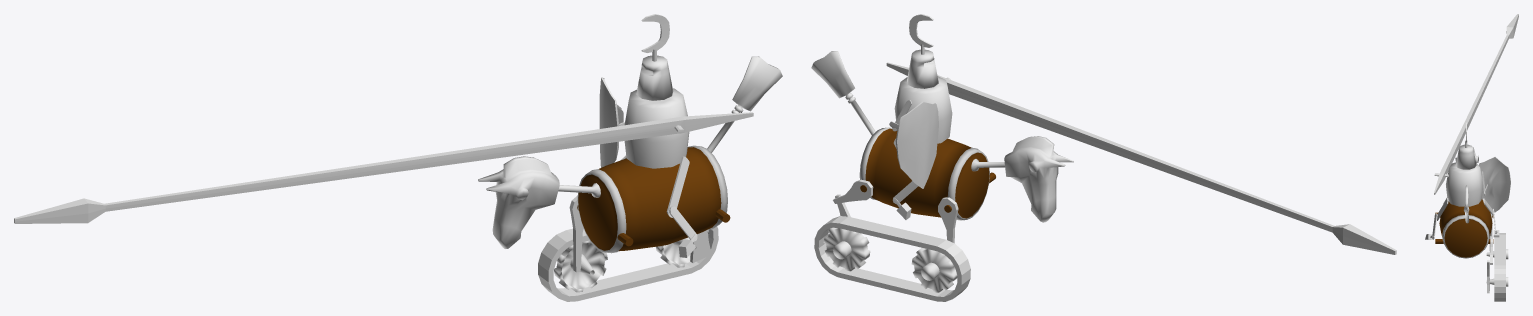
File: Cavaliere.fbx
The picture shows the model from 3 angles, left to right: view 1: azimuth 30°, elevation 25°; view 2: azimuth 150°, elevation 25°; view 3: azimuth 270°, elevation 25°; orthographic projection. The views are drawn at different scales.
Visible parts, largest first — view 1: Barile, Lancia, Testa, Cingolo, Body, elmo, Coda, Wheel.001, scudo, Gamba avanti, GambaPiede.001, Wheel (+1 smaller); view 2: Barile, Lancia, Cingolo, Testa, scudo, Body, Wheel, Wheel.001, elmo, Coda, Gamba avanti, GambadietroUP (+1 smaller); view 3: Barile, Body, scudo, Lancia, Cingolo, elmo, Coda, GambaPiede.001, GambaDietroDown, Gamba.001, GambaPiede, GambadietroUP.
Part boxes in pixels (left/top/right/bottom): Barile: left=577, top=145, right=730, bottom=253; Lancia: left=14, top=112, right=753, bottom=223; Testa: left=478, top=156, right=600, bottom=248; Cingolo: left=538, top=226, right=718, bottom=301; Body: left=624, top=88, right=689, bottom=168; elmo: left=636, top=14, right=673, bottom=100; Coda: left=707, top=56, right=782, bottom=152; Wheel.001: left=554, top=240, right=607, bottom=292; scudo: left=599, top=77, right=624, bottom=167; Gamba avanti: left=569, top=195, right=583, bottom=272; GambaPiede.001: left=669, top=206, right=697, bottom=257; Wheel: left=656, top=229, right=709, bottom=267; Barile: left=859, top=127, right=995, bottom=220; Lancia: left=886, top=62, right=1396, bottom=254; Cingolo: left=814, top=216, right=970, bottom=301; Testa: left=971, top=136, right=1073, bottom=222; scudo: left=889, top=101, right=938, bottom=188; Body: left=894, top=76, right=952, bottom=143; Wheel: left=823, top=227, right=870, bottom=271; Wheel.001: left=911, top=248, right=957, bottom=292; elmo: left=907, top=14, right=938, bottom=88; Coda: left=811, top=51, right=875, bottom=135; Gamba avanti: left=938, top=197, right=958, bottom=243; GambadietroUP: left=833, top=179, right=873, bottom=203; Barile: left=1435, top=197, right=1493, bottom=258; Body: left=1446, top=162, right=1483, bottom=206; scudo: left=1478, top=156, right=1510, bottom=212; Lancia: left=1434, top=14, right=1518, bottom=194; Cingolo: left=1494, top=233, right=1505, bottom=301; elmo: left=1455, top=120, right=1476, bottom=169; Coda: left=1464, top=185, right=1469, bottom=223; GambaPiede.001: left=1425, top=213, right=1437, bottom=239; GambaDietroDown: left=1487, top=260, right=1489, bottom=293; Gamba.001: left=1437, top=198, right=1448, bottom=220; GambaPiede: left=1493, top=208, right=1499, bottom=237; GambadietroUP: left=1490, top=236, right=1492, bottom=264.
Size of the model in its own units: 4.29 by 1.66 by 0.8764.
